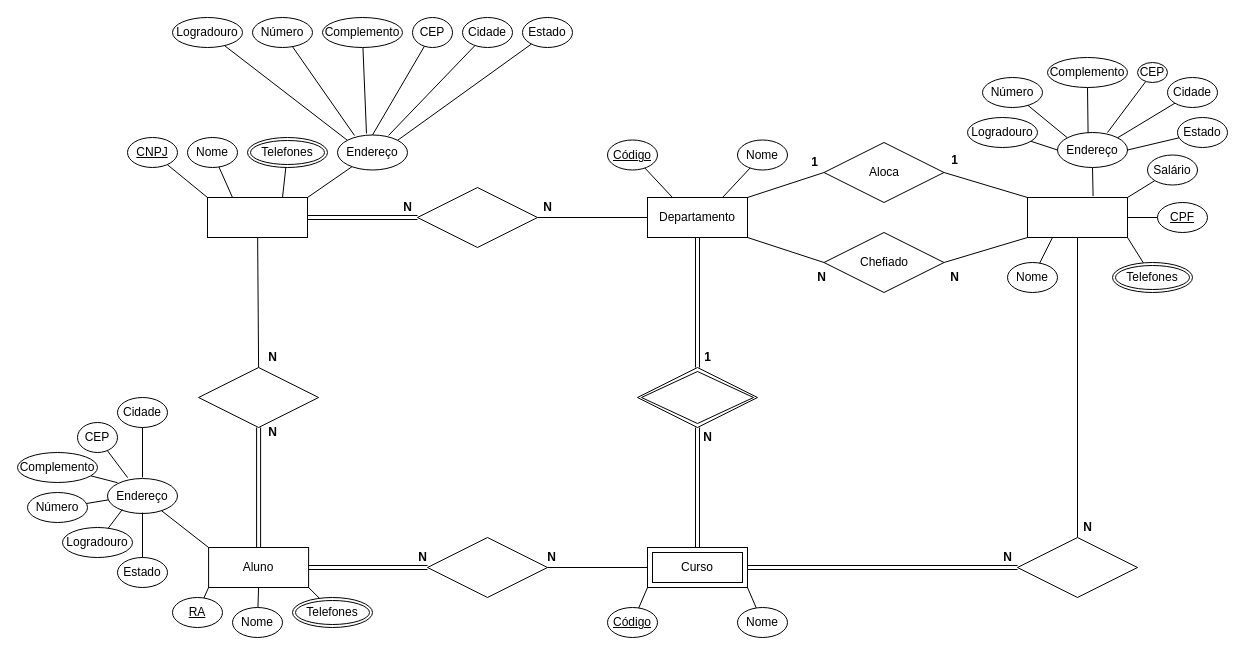
Some shapes in this 1245 by 655 pixel diagram are drawn without their labels. The centre of each missing label's shape, as x and y in pixels:
"Dividida" belongs at pixel 477 217.
"Escola" belongs at pixel 257 217.
"Frequenta" belongs at pixel 487 567.
"Matricula" belongs at pixel 258 397.
"Ministra" belongs at pixel 1077 567.
"Possui" belongs at pixel 697 397.
"Professor" belongs at pixel 1077 217.
